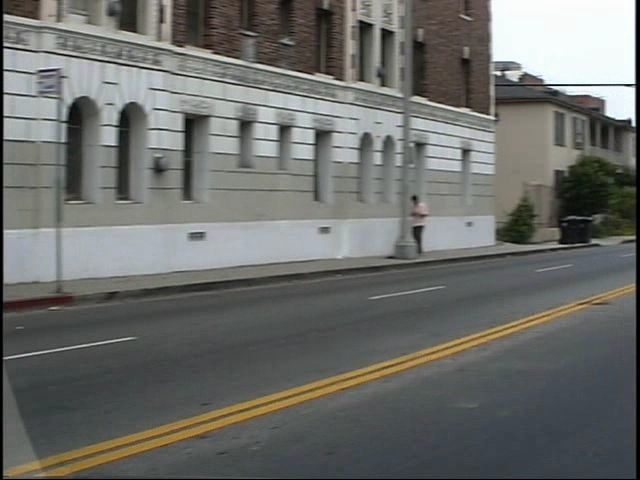person: (428, 189, 450, 256)
